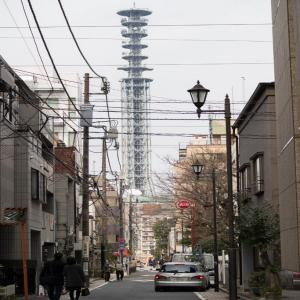Vehicle-registration-plate: (174, 279, 187, 283)
